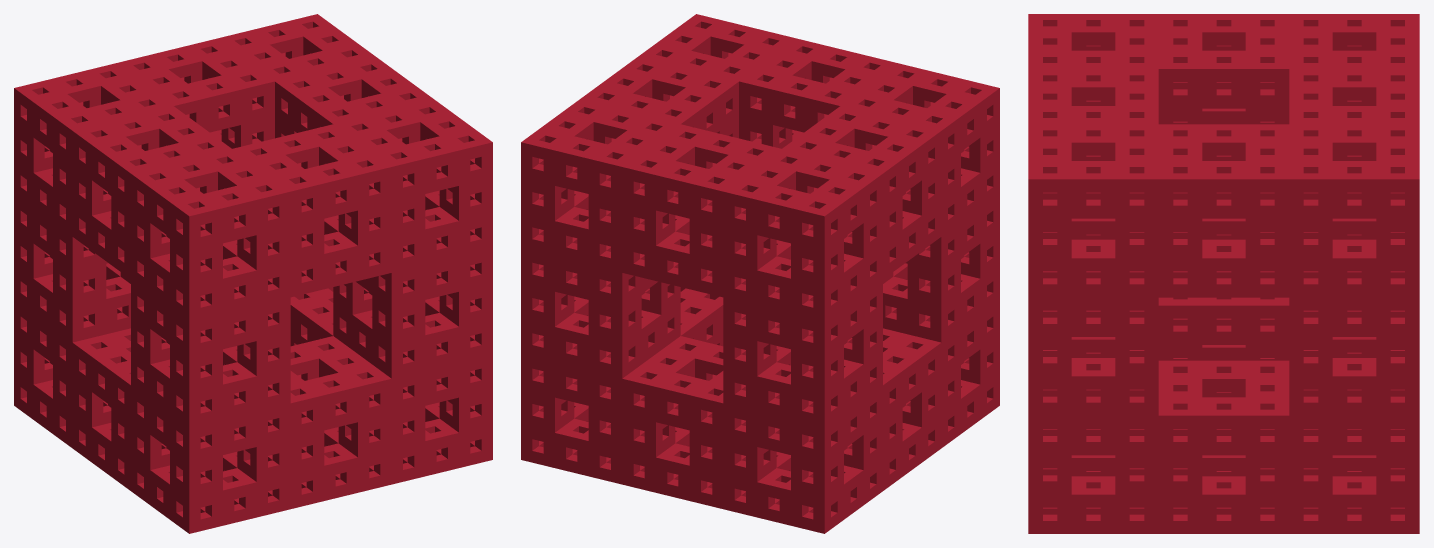
File: mengerSponge.glb
3 renders of one model, left to right at view 1: azimuth 30°, elevation 25°; view 2: azimuth 150°, elevation 25°; view 3: azimuth 270°, elevation 25°, orthographic. The views are drawn at different scales.
Visible parts, largest first — view 1: Sponge.001; view 2: Sponge.001; view 3: Sponge.001.
Boxes of the visible parts, box(x1,y1,x2,y2) form: Sponge.001: box(14, 14, 492, 533); Sponge.001: box(521, 14, 999, 533); Sponge.001: box(1028, 14, 1419, 533).
Size of the model in its own units: 1 by 1 by 1.
